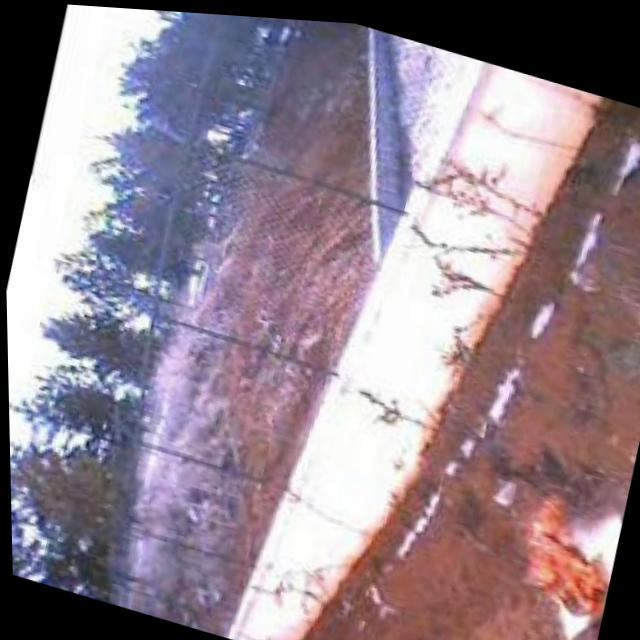fire: (498, 473, 624, 615)
